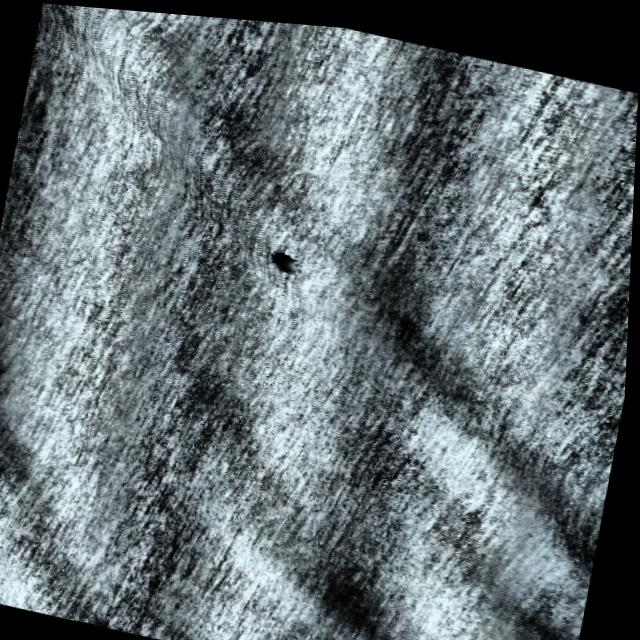Hole: (257, 232, 320, 289)
